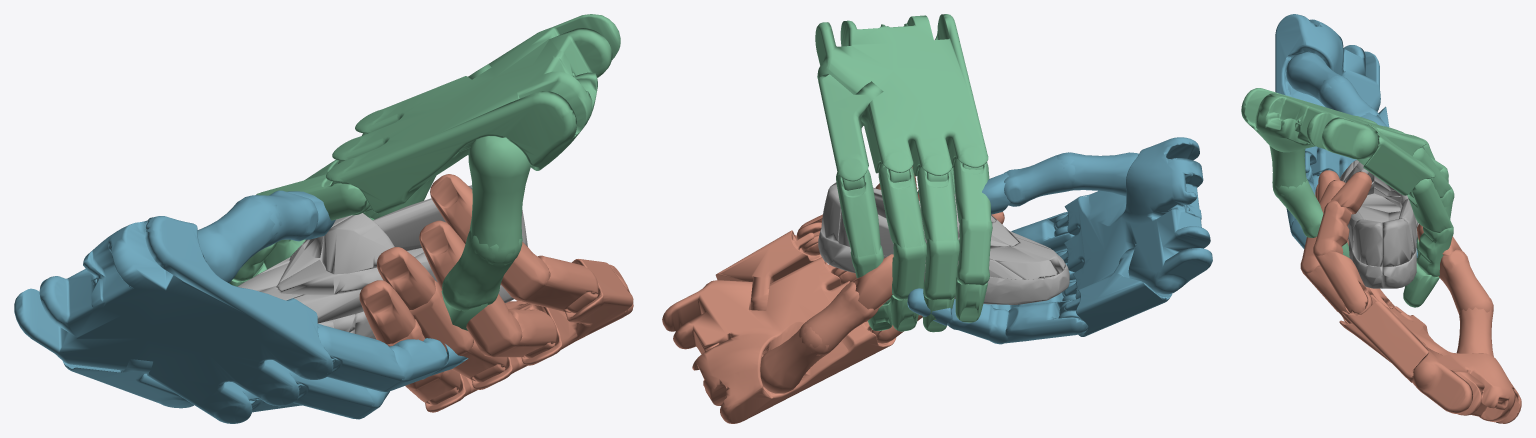
Rendered from mujoco-Womens_Suede_Bahama_in_Graphite_Suede_cUAjIMhWSO9_grasp.glb.
The picture shows the model from 3 angles, left to right: view 1: azimuth 30°, elevation 25°; view 2: azimuth 150°, elevation 25°; view 3: azimuth 270°, elevation 25°; orthographic projection. The views are drawn at different scales.
Bounding box in the file's own units: 0.3223 × 0.2083 × 0.174.
